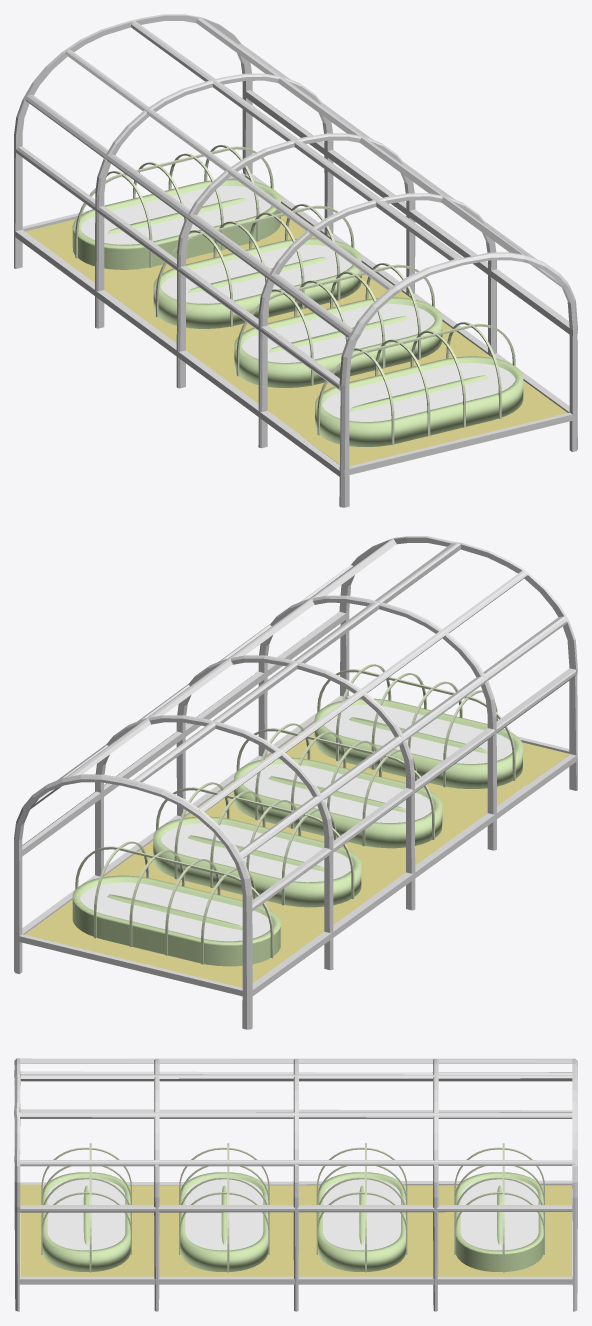
The model's file is algaefarm-2.glb.
The picture shows the model from 3 angles, top to bottom: view 1: azimuth 30°, elevation 25°; view 2: azimuth 150°, elevation 25°; view 3: azimuth 270°, elevation 25°; orthographic projection. The views are drawn at different scales.
Parts seen in each view (by area): view 1: Cube.002, Cube.001, Cube.006, Plane, Cube.007; view 2: Cube.002, Cube.001, Cube.006, Plane, Cube.007; view 3: Cube.002, Plane, Cube.006, Cube.001, Cube.007.
Part boxes in pixels (box(x1,y1,x2,y2)): Cube.002: box(14, 14, 577, 507); Cube.001: box(72, 179, 523, 446); Cube.006: box(80, 186, 515, 421); Plane: box(25, 177, 567, 466); Cube.007: box(75, 145, 515, 444); Cube.002: box(14, 536, 577, 1029); Cube.001: box(72, 698, 522, 966); Cube.006: box(80, 705, 515, 941); Plane: box(25, 699, 569, 987); Cube.007: box(75, 664, 515, 964); Cube.002: box(14, 1058, 577, 1311); Plane: box(20, 1184, 571, 1276); Cube.006: box(47, 1179, 538, 1250); Cube.001: box(42, 1172, 543, 1271); Cube.007: box(41, 1143, 544, 1272).
Bounding box in the file's own units: 11.47 × 10.11 × 27.67.
